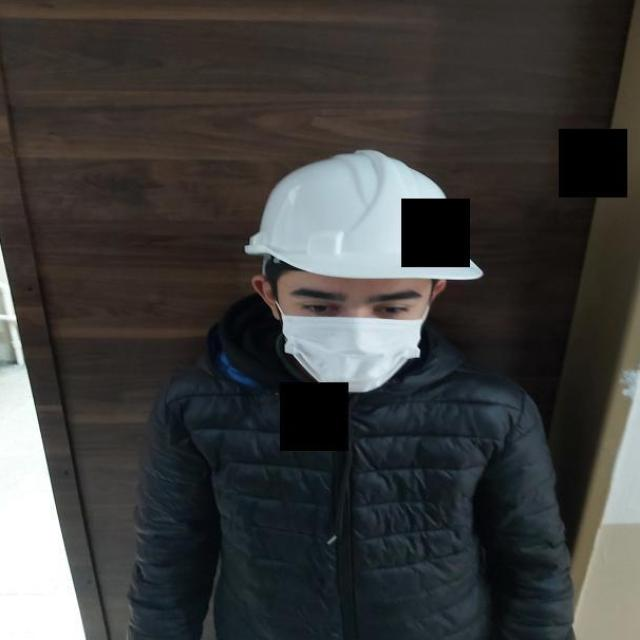helmet: (245, 147, 485, 281)
